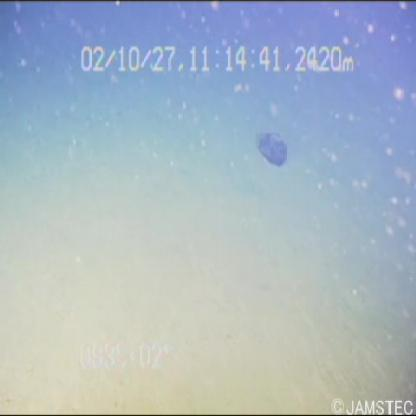Rác: (253, 121, 292, 171)
